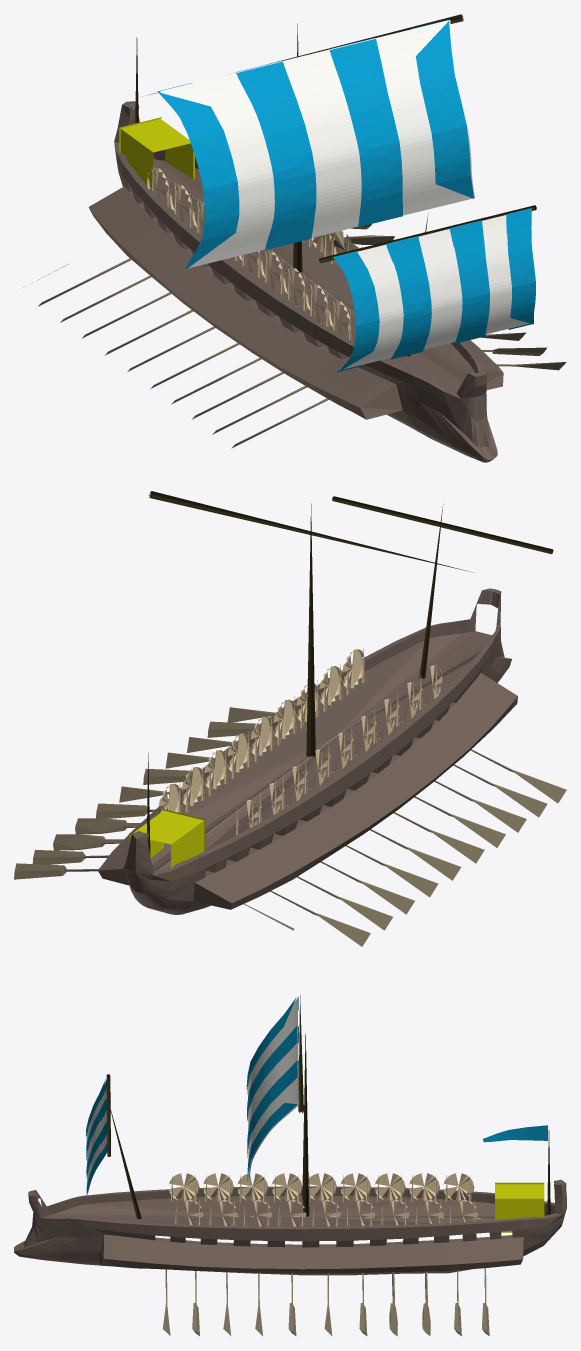
File: Trireme.glb
3 views of the same model, one above another, from view 1: azimuth 30°, elevation 25°; view 2: azimuth 150°, elevation 25°; view 3: azimuth 270°, elevation 25° (orthographic). The views are drawn at different scales.
Parts seen in each view (by area): view 1: body_Sphere, sail_big.002_Plane.004, sail_big_Plane.001, sail_big.003_Plane.005, sail_big.001_Plane.002, Plane.008, Circle.003, sail_big.005_Plane.007, beam.001_Cylinder.001, Circle.002; view 2: body_Sphere, Circle.002, Circle.003, Plane.008, beam_Cylinder.002, mast_Cylinder, beam.001_Cylinder.001, ore.001_Cube.023, ore.002_Cube.024, ore.010_Cube.010, ore.000_Cube.022, ore.003_Cube.025 (+13 smaller); view 3: body_Sphere, Circle.003, sail_big.002_Plane.004, sail_big_Plane.001, Circle.002, Plane.008, sail_big.003_Plane.005, mast_Cylinder, flag_Plane.003, sail_big.001_Plane.002.
Part boxes in pixels (<box>): body_Sphere: <box>88,101,503,462</box>; sail_big.002_Plane.004: <box>159,21,473,268</box>; sail_big_Plane.001: <box>160,20,474,268</box>; sail_big.003_Plane.005: <box>334,209,535,372</box>; sail_big.001_Plane.002: <box>339,215,529,370</box>; Plane.008: <box>119,117,194,187</box>; Circle.003: <box>147,165,351,340</box>; sail_big.005_Plane.007: <box>333,208,532,372</box>; beam.001_Cylinder.001: <box>319,205,536,263</box>; Circle.002: <box>302,230,363,263</box>; body_Sphere: <box>98,588,517,914</box>; Circle.002: <box>158,648,365,814</box>; Circle.003: <box>236,663,442,835</box>; Plane.008: <box>129,809,205,868</box>; beam_Cylinder.002: <box>149,491,474,572</box>; mast_Cylinder: <box>306,503,315,756</box>; beam.001_Cylinder.001: <box>332,496,553,554</box>; ore.001_Cube.023: <box>53,834,123,850</box>; ore.002_Cube.024: <box>75,818,140,834</box>; ore.010_Cube.010: <box>14,863,98,879</box>; ore.000_Cube.022: <box>32,849,108,864</box>; ore.003_Cube.025: <box>96,803,155,818</box>; body_Sphere: <box>14,1179,566,1275</box>; Circle.003: <box>169,1173,474,1202</box>; sail_big.002_Plane.004: <box>246,997,297,1181</box>; sail_big_Plane.001: <box>248,997,298,1180</box>; Circle.002: <box>172,1200,477,1226</box>; Plane.008: <box>495,1182,544,1232</box>; sail_big.003_Plane.005: <box>86,1079,106,1196</box>; mast_Cylinder: <box>302,1033,309,1216</box>; flag_Plane.003: <box>483,1125,547,1142</box>; sail_big.001_Plane.002: <box>86,1088,107,1184</box>.
Size of the model in its own units: 1.89 by 1.76 by 3.56.
